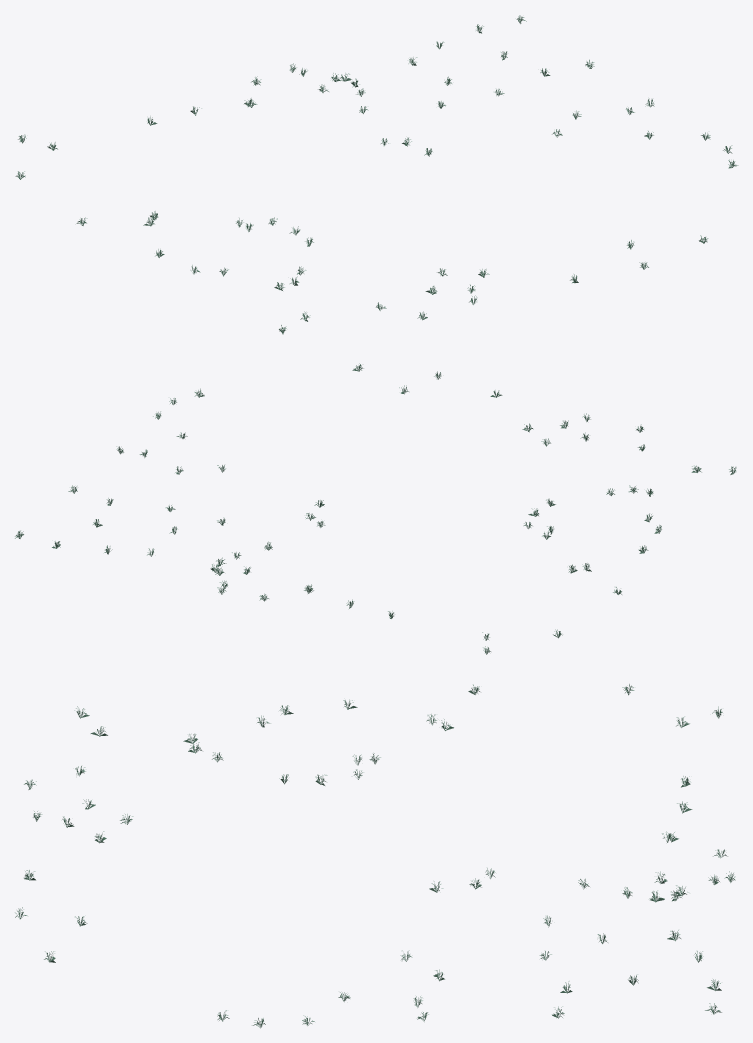
Rendered from xiyuan-vegetation-35-medium.glb.
3 renders of one model, top to bottom at view 1: azimuth 30°, elevation 25°; view 2: azimuth 150°, elevation 25°; view 3: azimuth 270°, elevation 25°, orthographic. The views are drawn at different scales.
Parts seen in each view (by area): view 1: mondo grass; view 2: mondo grass; view 3: mondo grass.
Boxes of the visible parts, bbox=[...] form: mondo grass: bbox=[15, 15, 738, 334]; mondo grass: bbox=[15, 363, 736, 654]; mondo grass: bbox=[15, 684, 735, 1028].
Size of the model in its own units: 32.79 by 0.4864 by 29.53.
